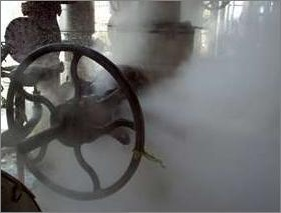smoke: (141, 26, 280, 184)
